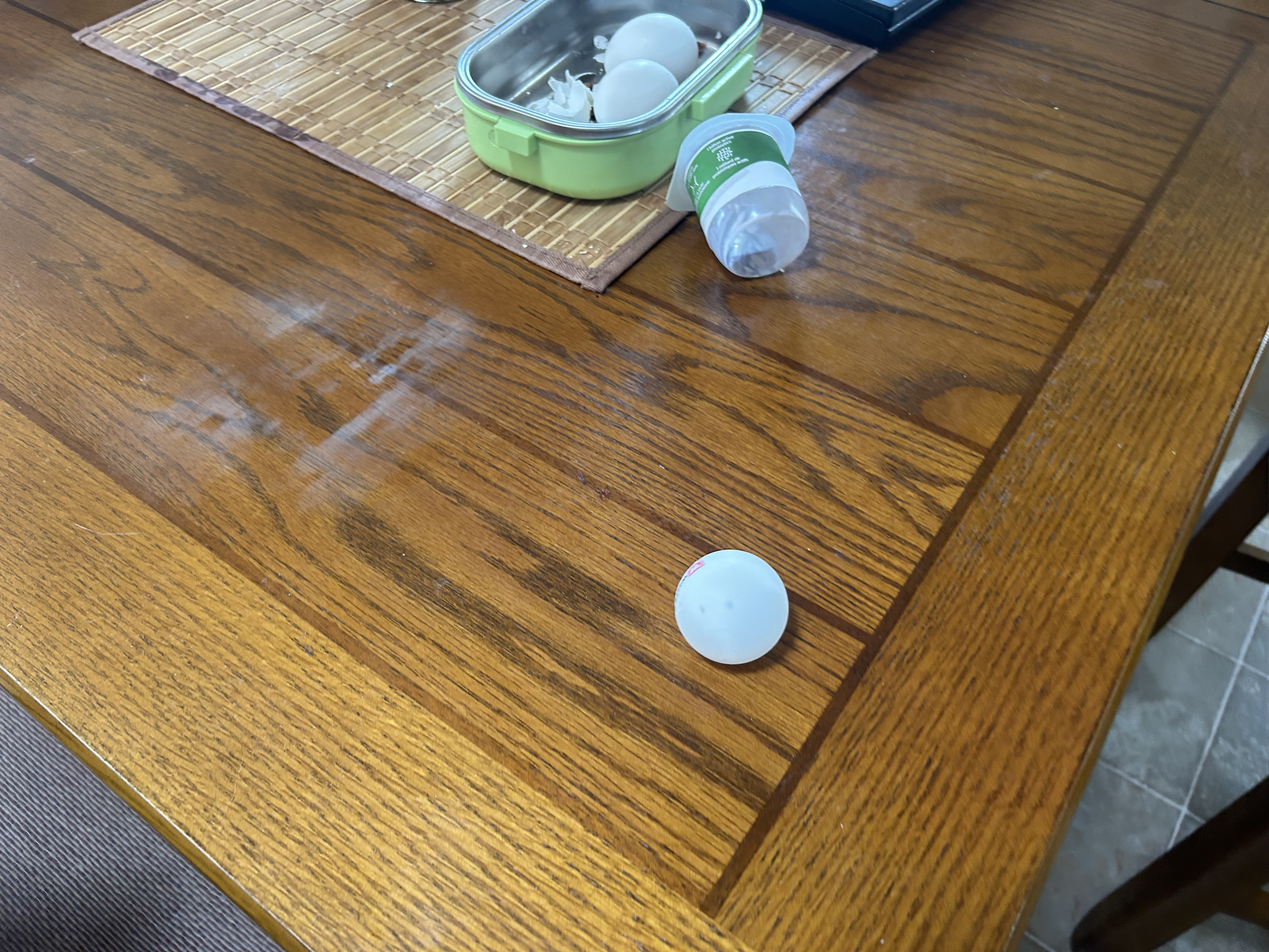Ball: (675, 552, 797, 664)
